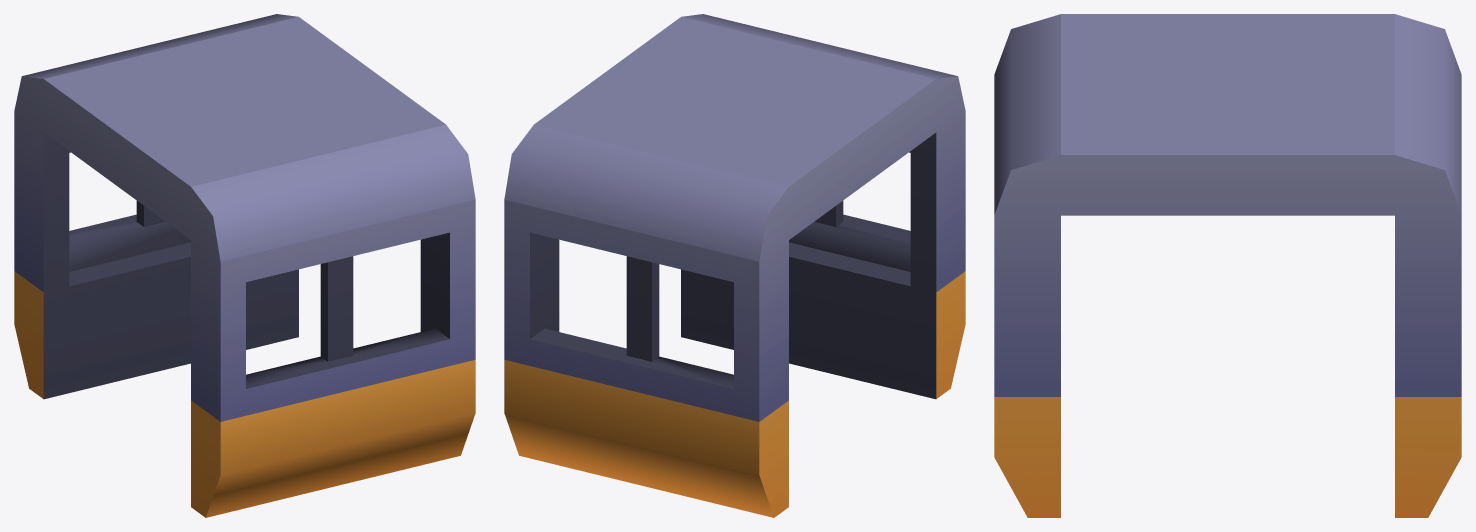
The model's file is kenney-conveyor-cover-stripe-bar.glb.
The picture shows the model from 3 angles, left to right: view 1: azimuth 30°, elevation 25°; view 2: azimuth 150°, elevation 25°; view 3: azimuth 270°, elevation 25°; orthographic projection. The views are drawn at different scales.
Visible parts, largest first — view 1: cover-stripe-bar; view 2: cover-stripe-bar; view 3: cover-stripe-bar.
Boxes of the visible parts, x1,y1,x2,y2 form: cover-stripe-bar: [14, 14, 475, 517]; cover-stripe-bar: [504, 14, 965, 517]; cover-stripe-bar: [994, 14, 1461, 517].
Size of the model in its own units: 1 by 1.2 by 1.4.
Materials: 1 (1 with a texture image).
